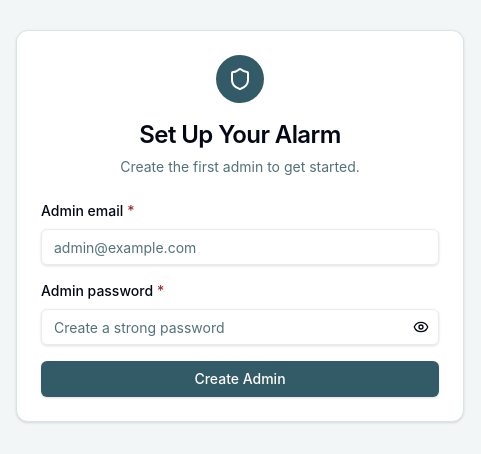
OnboardingPage › shows validation errors for invalid inputs
The width and height of the screenshot is (481, 454).
Type "test@example.com" into the field labelled "Admin email*". click: (240, 247)
box: [41,229,439,265]
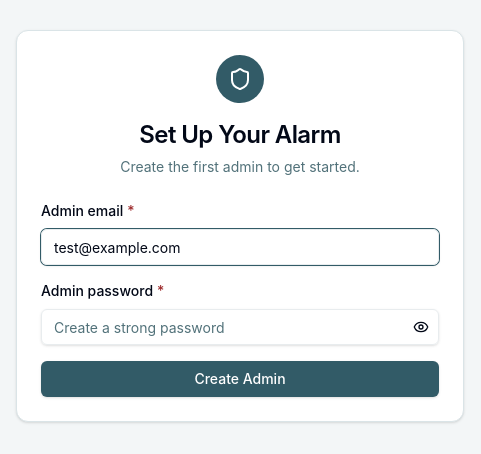
Type "short" into the password field labelled "Admin password*". click: (240, 327)
box: [41,309,439,345]
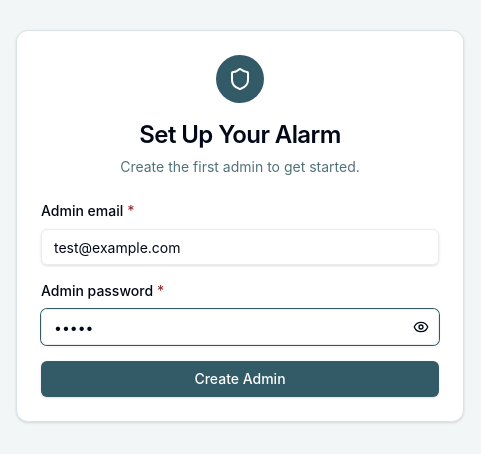
Click the button "Create Admin". click: (240, 379)
box: [41,361,439,397]
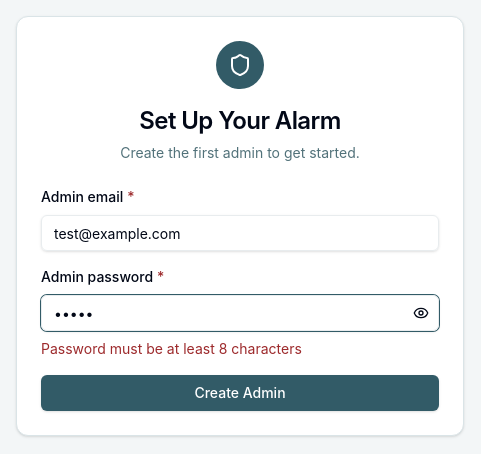
Expected: the text "Password must be at least 8 characters" is shown, [41,340,302,357]
